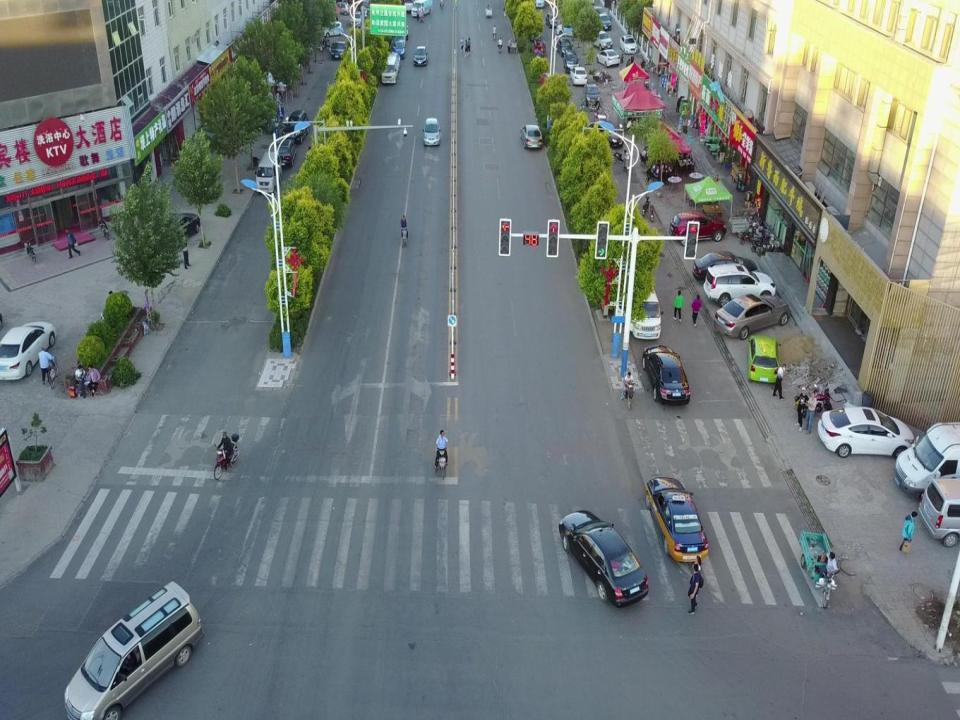car: (62, 583, 202, 720), (560, 511, 646, 608), (648, 474, 708, 565), (817, 408, 913, 458), (0, 319, 54, 381), (704, 262, 774, 308), (713, 296, 787, 339), (643, 346, 691, 406), (692, 248, 756, 284), (670, 210, 726, 246), (151, 215, 200, 252), (747, 336, 780, 385), (590, 120, 622, 150), (520, 124, 543, 151), (274, 139, 294, 168), (423, 116, 440, 148), (595, 49, 620, 68), (316, 20, 343, 36), (563, 48, 578, 75), (584, 82, 600, 107), (413, 43, 429, 66), (593, 31, 612, 50), (620, 34, 637, 54), (556, 24, 580, 38), (571, 65, 586, 87), (595, 14, 611, 33), (391, 39, 406, 59), (331, 42, 347, 60), (558, 39, 573, 58), (331, 2, 350, 16), (545, 12, 559, 29), (350, 12, 362, 27)
truck: (283, 106, 309, 144)
van: (622, 262, 660, 338), (256, 152, 282, 195), (381, 52, 399, 84), (410, 0, 434, 16)
